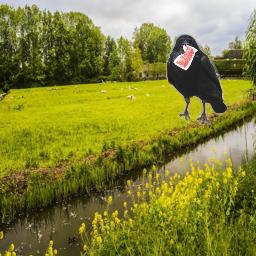Crow: (166, 34, 228, 125)
